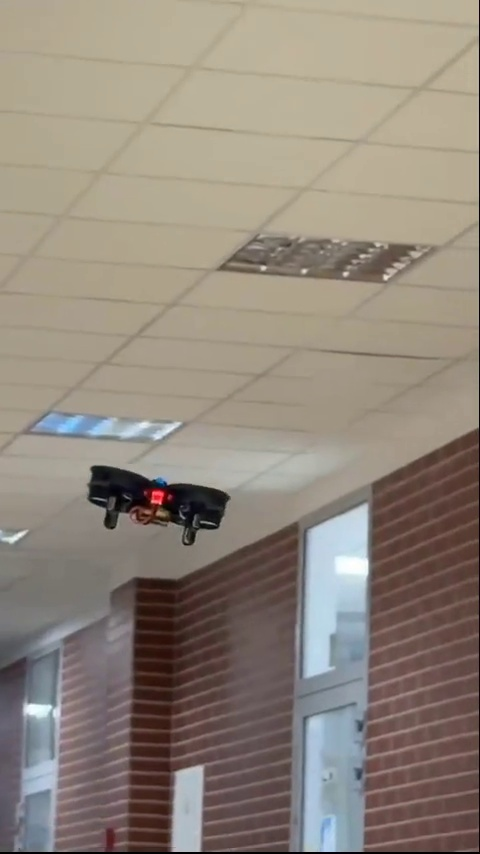drone: (86, 460, 230, 551)
